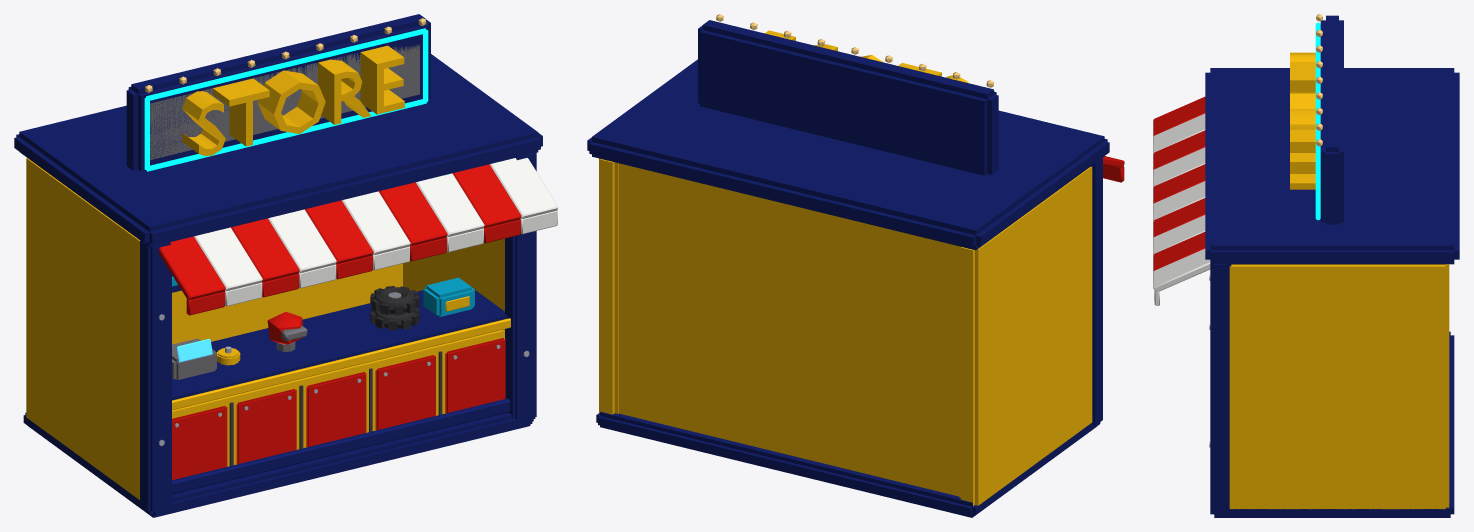
The model's file is store_booth.fbx.
3 renders of one model, left to right at view 1: azimuth 30°, elevation 25°; view 2: azimuth 150°, elevation 25°; view 3: azimuth 270°, elevation 25°, orthographic. The views are drawn at different scales.
Visible parts, largest first — view 1: store_booth; view 2: store_booth; view 3: store_booth.
Part boxes in pixels (<box>): store_booth: <box>14,14,558,517</box>; store_booth: <box>587,14,1124,517</box>; store_booth: <box>1153,14,1459,517</box>.
Size of the model in its own units: 16.6 by 15.11 by 11.8.
